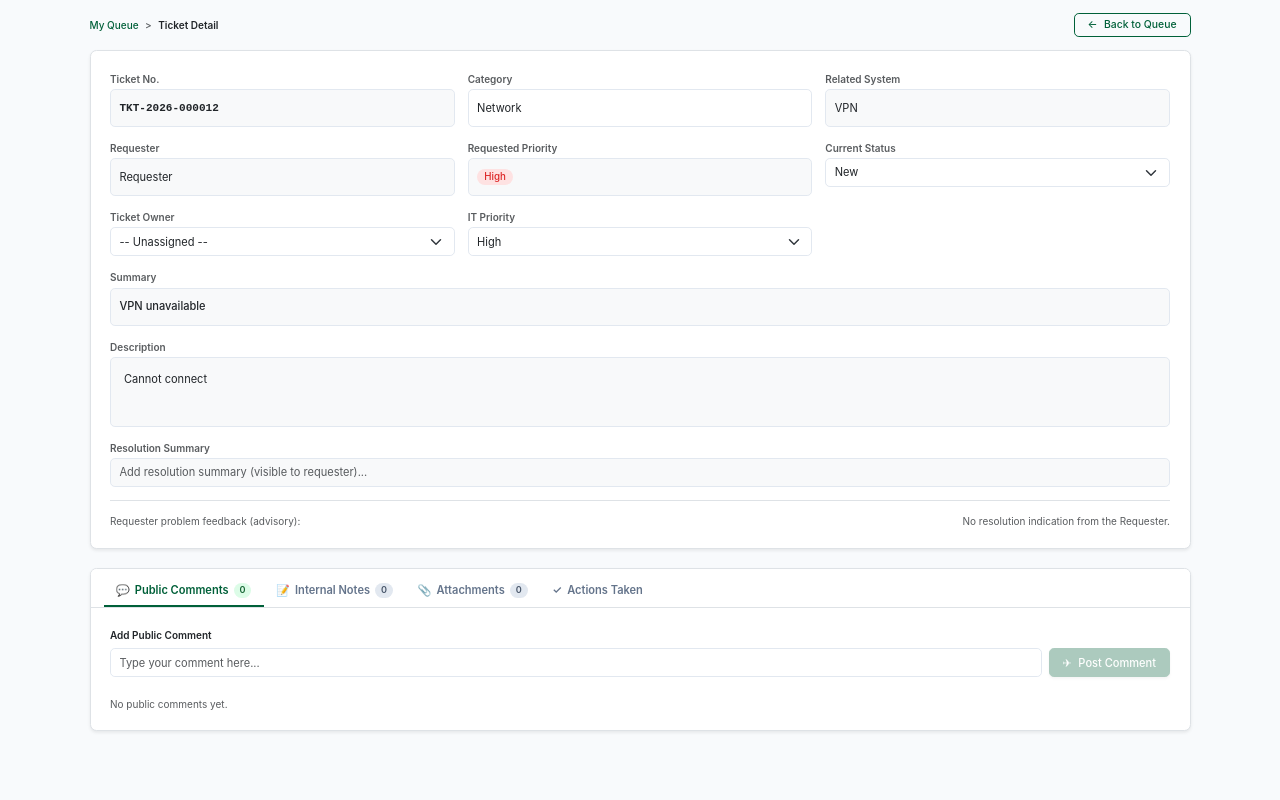
Lab 4 Ticket workflow UI › refreshes the Ticket after stale status conflict and shows safe feedback
Select "In Progress" in the dropdown with test id "status-select". click: (998, 173)
box: left=825, top=158, right=1170, bottom=187
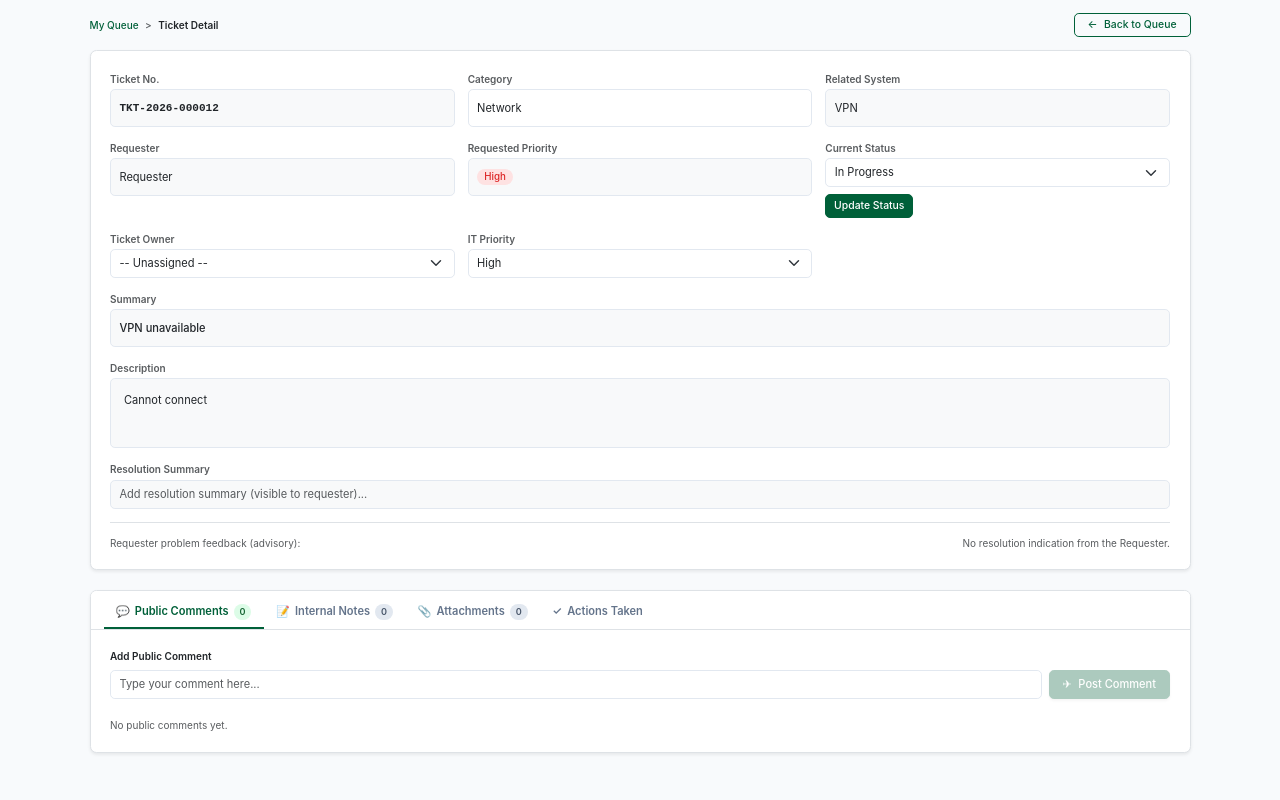
Click the button with test id "update-status-btn". click: (869, 206)
box: left=825, top=194, right=913, bottom=218
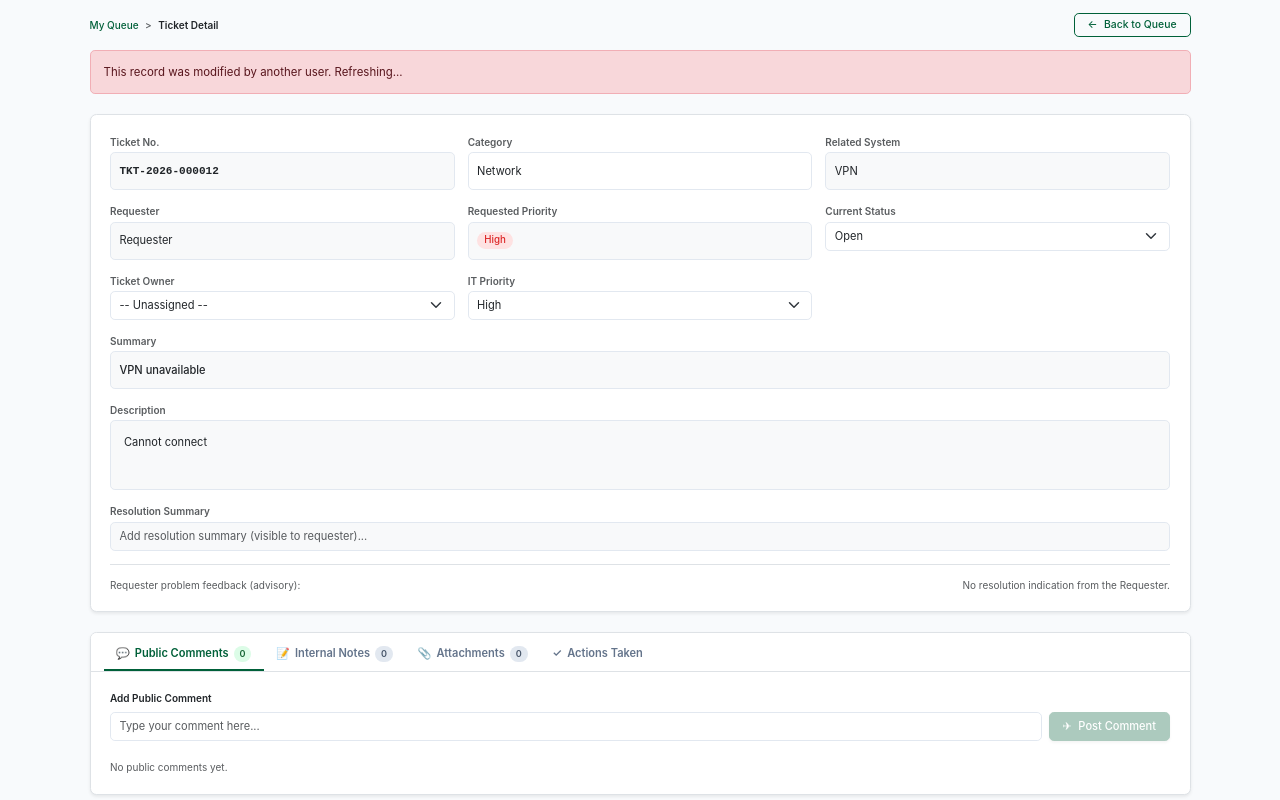
Result: the message with test id "operation-error" shows "modified by another user" at left=104, top=65, right=403, bottom=79
